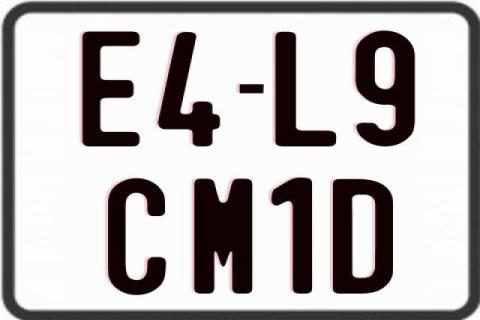0: (157, 30, 219, 146), (355, 31, 416, 147), (268, 177, 314, 293)
C: (108, 177, 167, 299)
D: (332, 177, 392, 293)
E: (80, 32, 141, 152)
L: (273, 31, 335, 147)
M: (192, 178, 255, 296)
